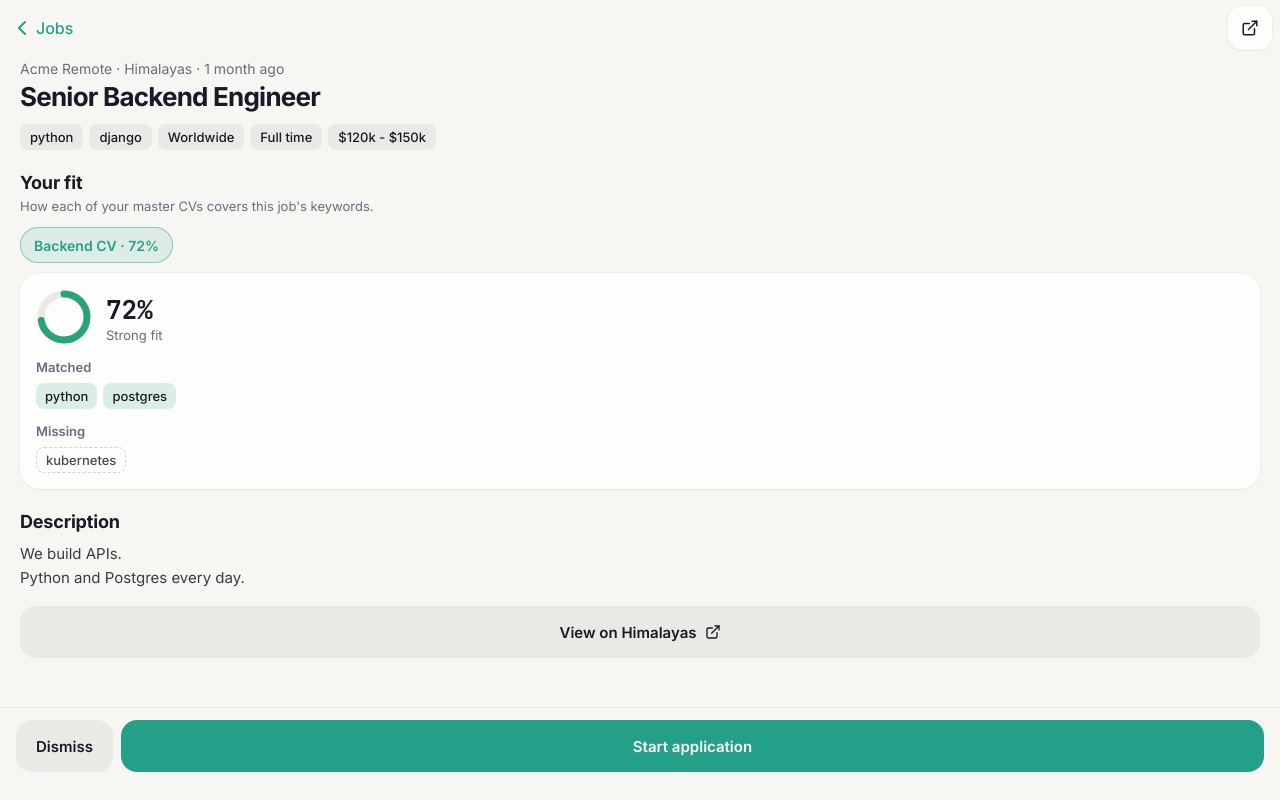
a job below md › turns a 409 into Open draft, and Cancel closes the sheet back to Start application
Click the button "Start application".
click(692, 746)  # box [121,720,1264,772]
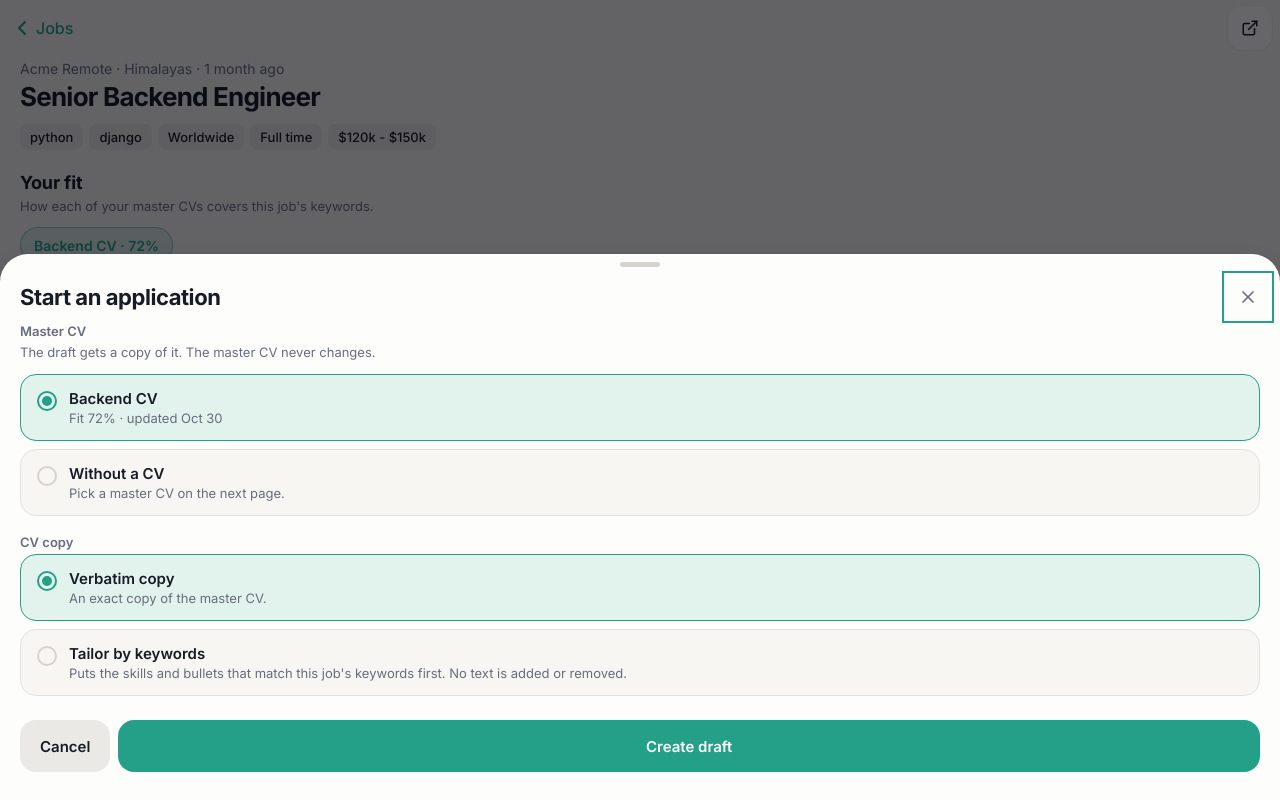
Click the button "Create draft".
click(689, 746)  # box [118,720,1260,772]
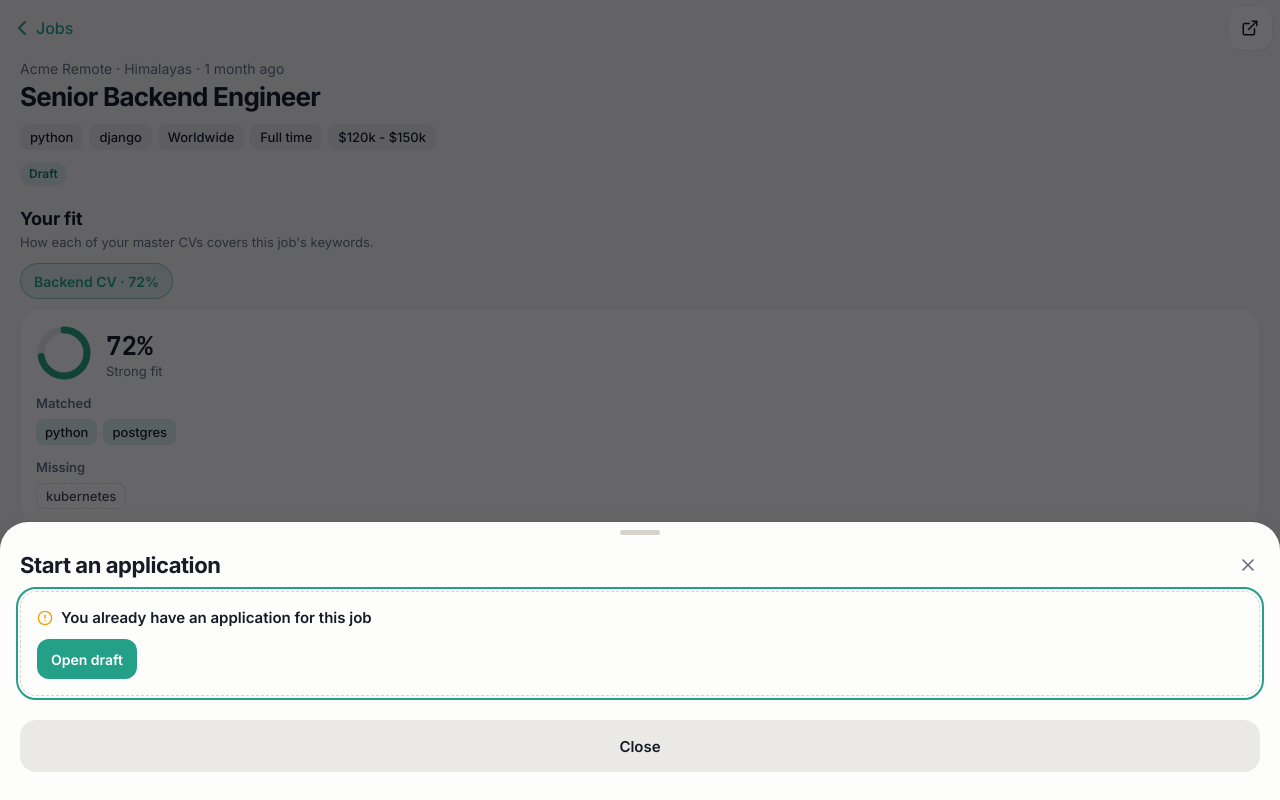
expect the number of buttons named "Close" is 2: met
expect the message shows "You already have an application for this job": met, box [61,608,372,627]
Click the button "Close".
click(640, 746)  # box [20,720,1260,772]
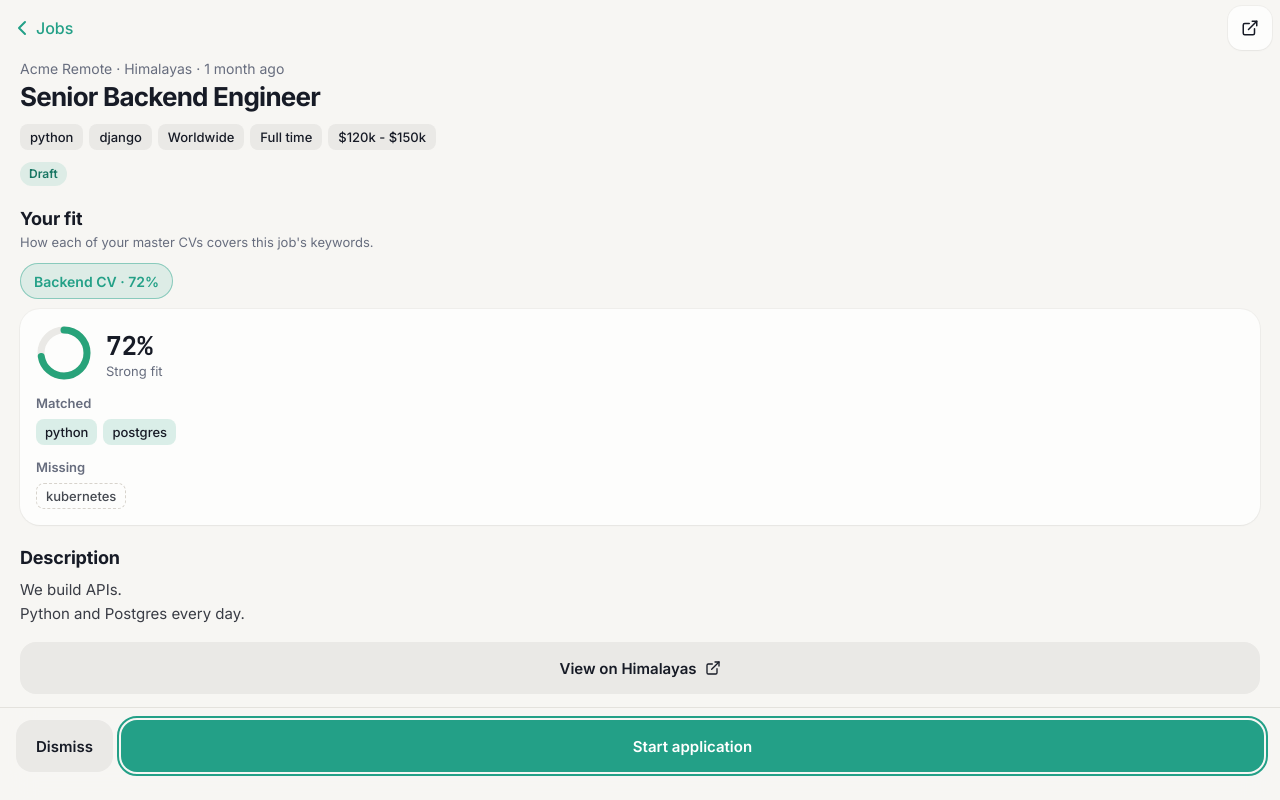
expect the dialog is gone: met
